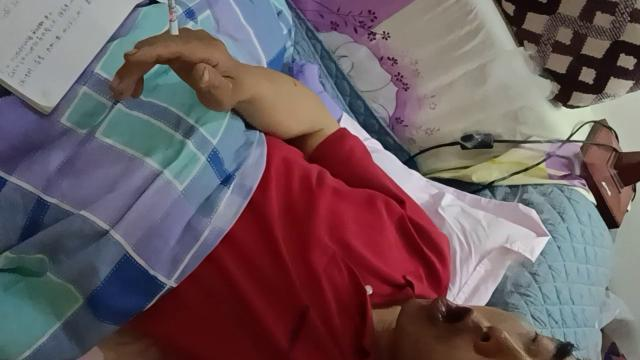Smoking: (168, 0, 180, 66)
